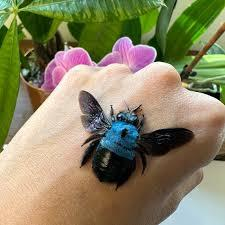Xylocopa: (72, 83, 193, 194)
